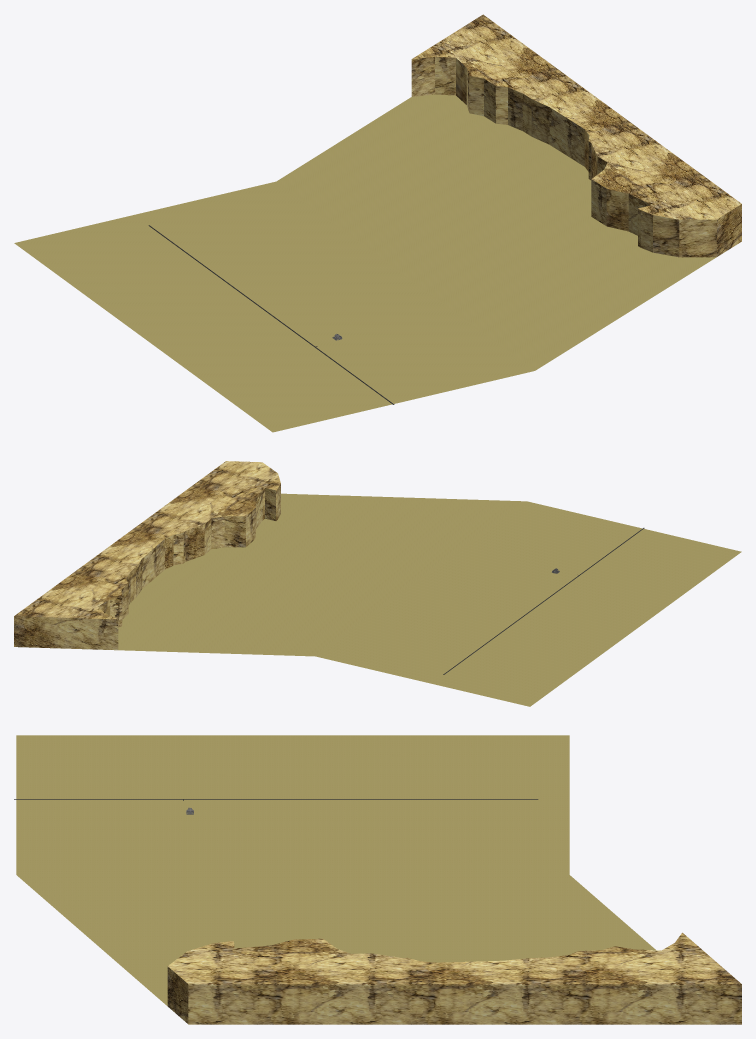
The picture shows the model from 3 angles, top to bottom: view 1: azimuth 30°, elevation 25°; view 2: azimuth 150°, elevation 25°; view 3: azimuth 270°, elevation 25°; orthographic projection. The views are drawn at different scales.
Visible parts, largest first — view 1: citadel-COM-Ancient_Station-106923-sand, citadel-COM-Ancient_Station-106923-rock2; view 2: citadel-COM-Ancient_Station-106923-sand, citadel-COM-Ancient_Station-106923-rock2; view 3: citadel-COM-Ancient_Station-106923-sand, citadel-COM-Ancient_Station-106923-rock2, citadel-COM-Ancient_Station-106923-road_outside, citadel-COM-Ancient_Station-106923-road_wall.
Part boxes in pixels (x1,y1,x2,y2): citadel-COM-Ancient_Station-106923-sand: (14, 94, 715, 432); citadel-COM-Ancient_Station-106923-rock2: (411, 14, 741, 257); citadel-COM-Ancient_Station-106923-sand: (118, 493, 741, 706); citadel-COM-Ancient_Station-106923-rock2: (14, 461, 280, 650); citadel-COM-Ancient_Station-106923-sand: (16, 735, 655, 1005); citadel-COM-Ancient_Station-106923-rock2: (167, 932, 741, 1024); citadel-COM-Ancient_Station-106923-road_outside: (14, 799, 537, 800); citadel-COM-Ancient_Station-106923-road_wall: (14, 799, 537, 799).
Size of the model in its own units: 3071006 by 215199 by 3293059.
Materials: 7 (7 with a texture image).
